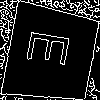E: (25, 29, 80, 69)
